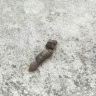Dog: (29, 39, 57, 71)
